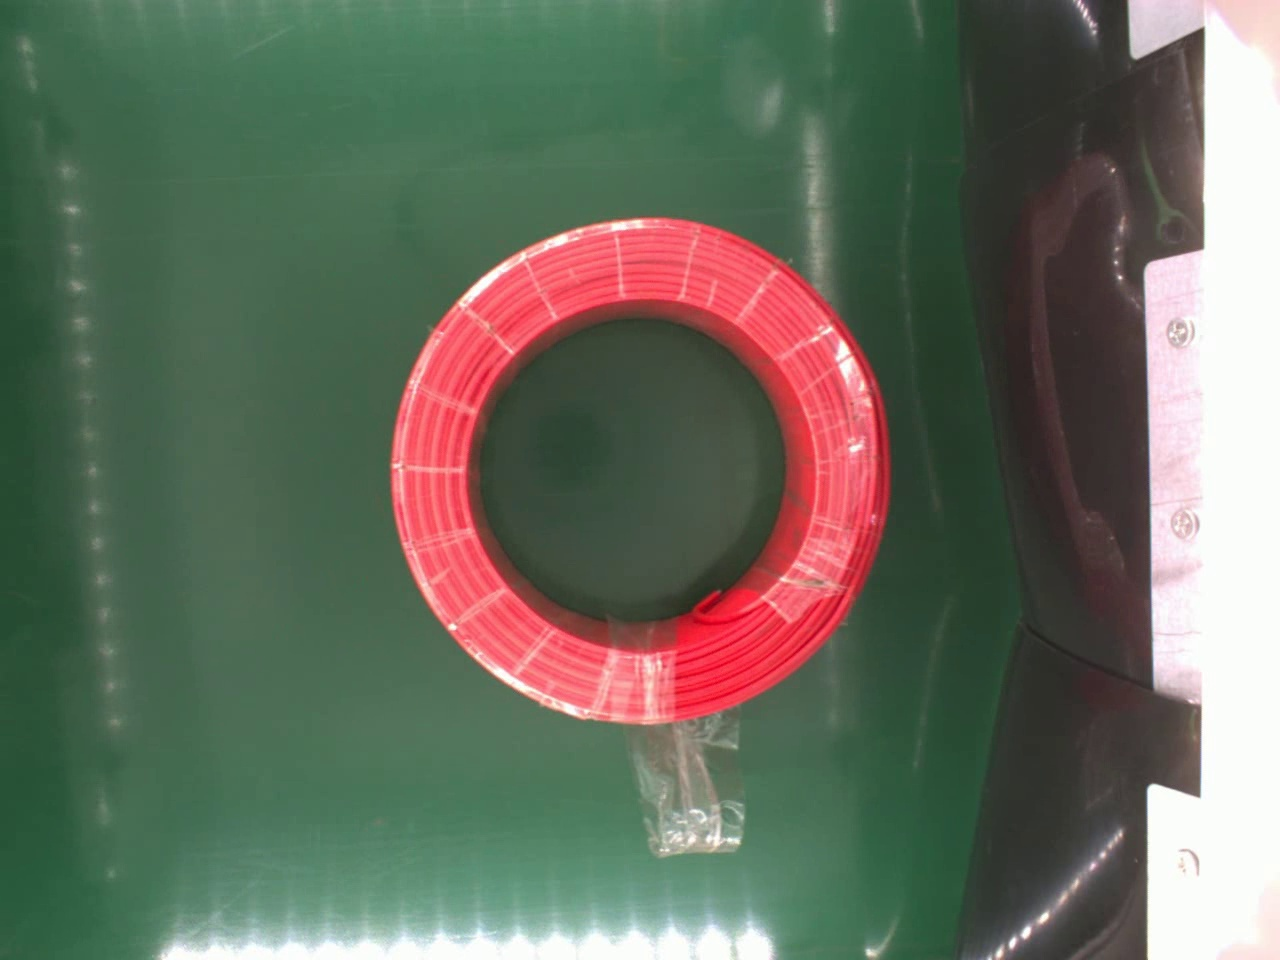red: (387, 211, 898, 725)
